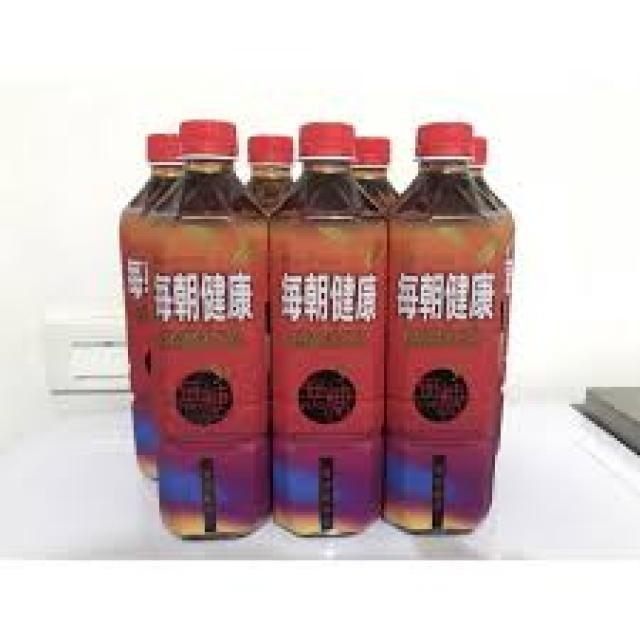MeiChou_BlackTea: (137, 108, 269, 543), (262, 116, 396, 540), (380, 114, 510, 530)
